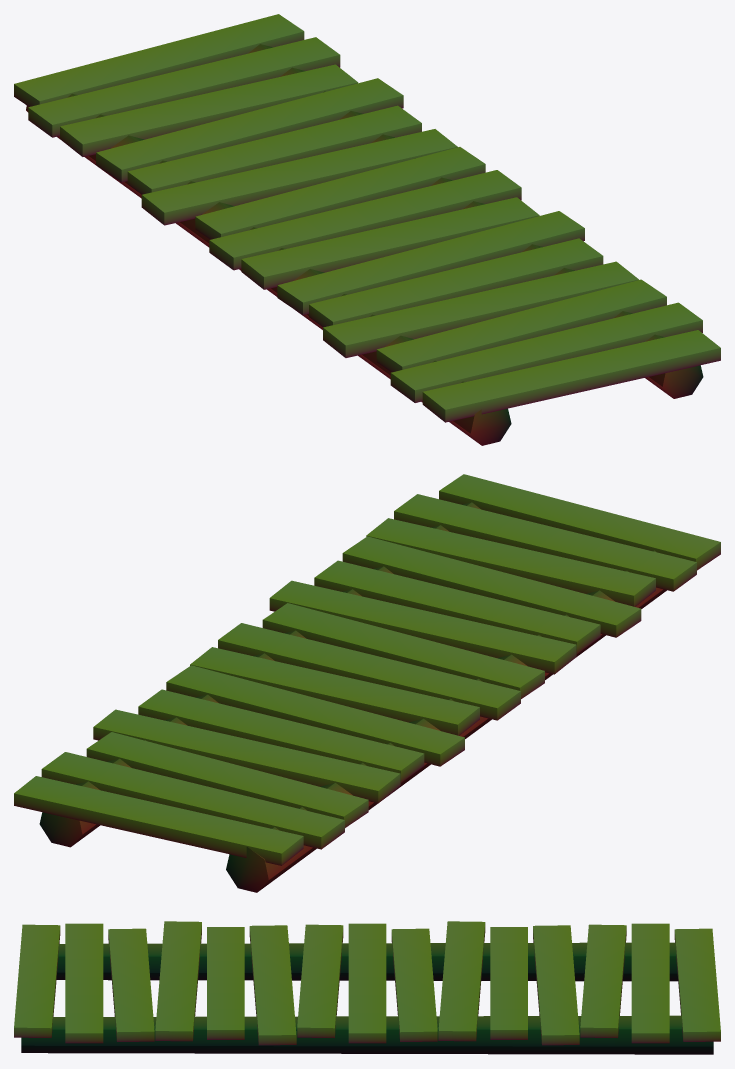
Rendered from LogBridge.fbx.
The picture shows the model from 3 angles, top to bottom: view 1: azimuth 30°, elevation 25°; view 2: azimuth 150°, elevation 25°; view 3: azimuth 270°, elevation 25°; orthographic projection. The views are drawn at different scales.
Parts seen in each view (by area): view 1: LogBridge; view 2: LogBridge; view 3: LogBridge.
Boxes of the visible parts, x1,y1,x2,y2 form: LogBridge: [14, 14, 720, 445]; LogBridge: [14, 474, 720, 892]; LogBridge: [14, 921, 720, 1054].
Size of the model in its own units: 1.72 by 0.2521 by 4.49.
